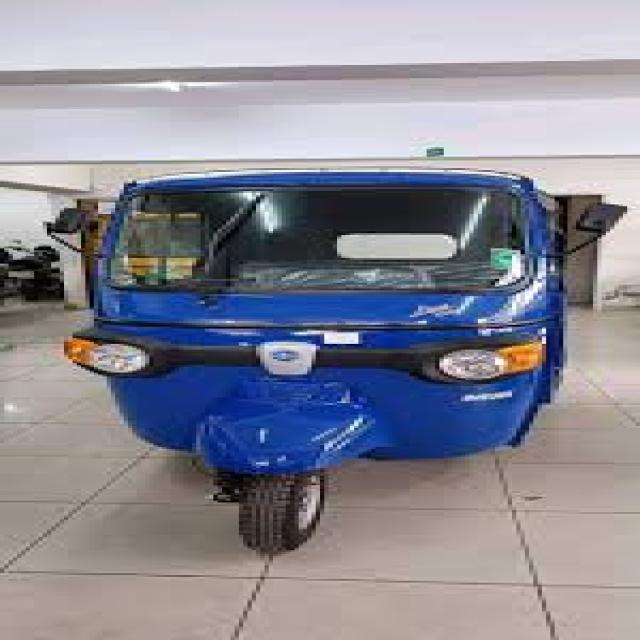tuktuk: (47, 71, 636, 570)
